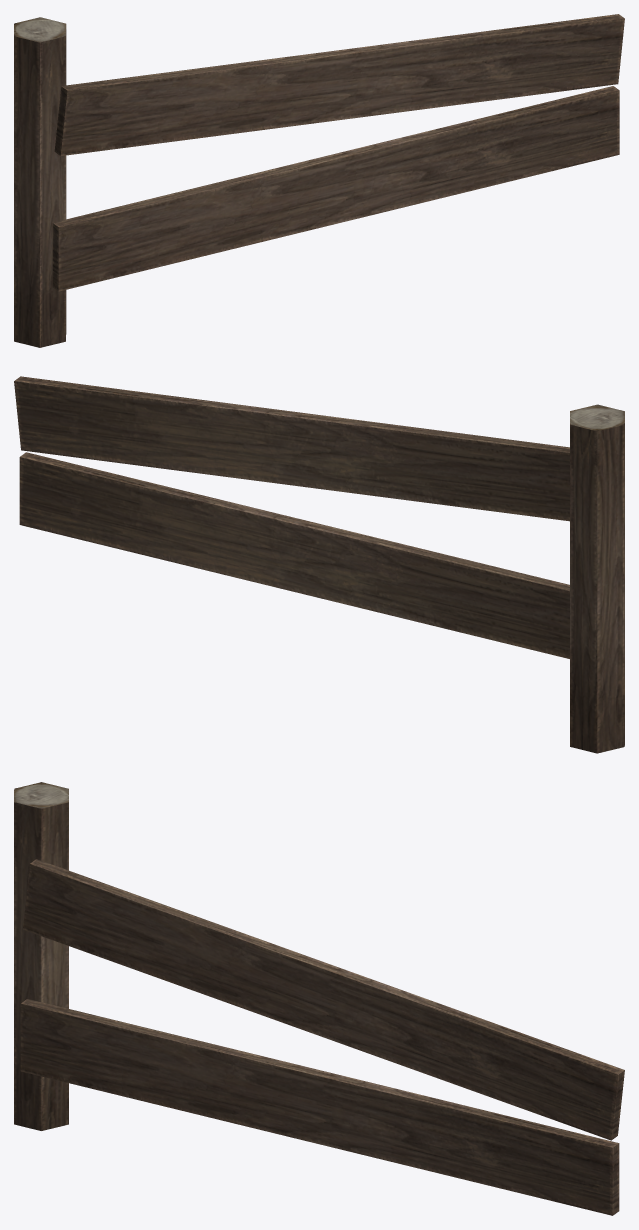
The model's file is Forest.Fence_5.fbx.
The picture shows the model from 3 angles, top to bottom: view 1: azimuth 30°, elevation 25°; view 2: azimuth 150°, elevation 25°; view 3: azimuth 330°, elevation 25°; orthographic projection. The views are drawn at different scales.
Parts seen in each view (by area): view 1: Forest.Fence_5; view 2: Forest.Fence_5; view 3: Forest.Fence_5.
Boxes of the visible parts, x1,y1,x2,y2 form: Forest.Fence_5: (14, 14, 624, 347); Forest.Fence_5: (14, 376, 624, 753); Forest.Fence_5: (14, 782, 624, 1215).
Size of the model in its own units: 158 by 78.03 by 14.92.
